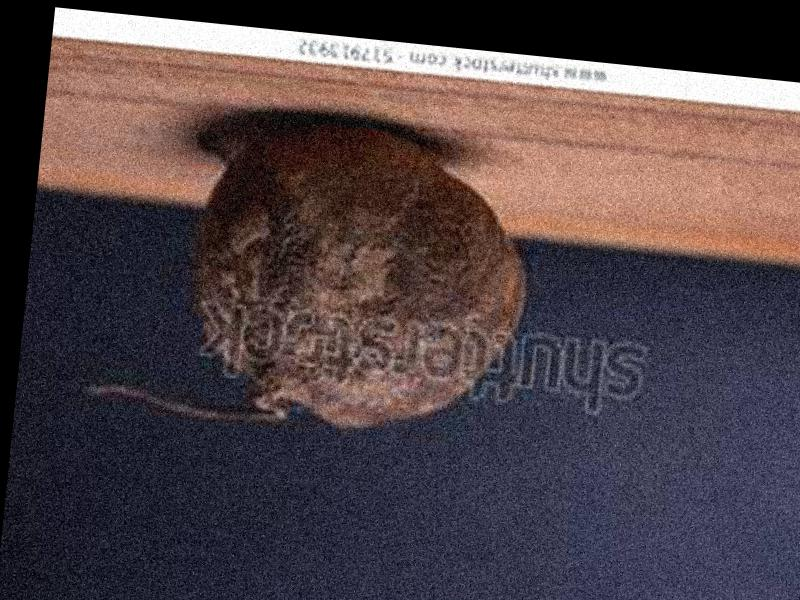Beet: (77, 101, 538, 450)
